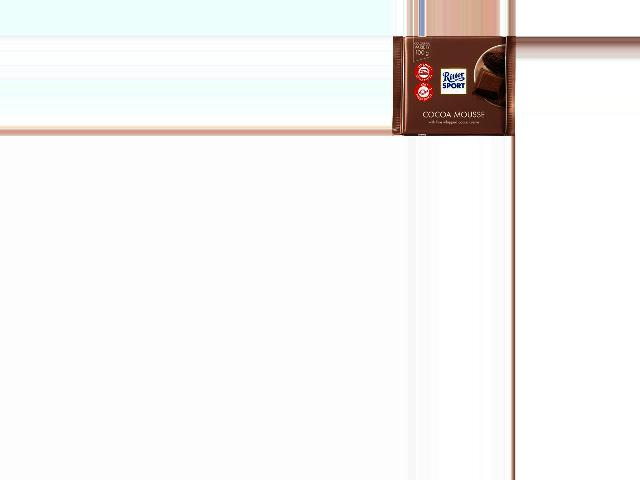chocolate: (394, 36, 515, 137)
